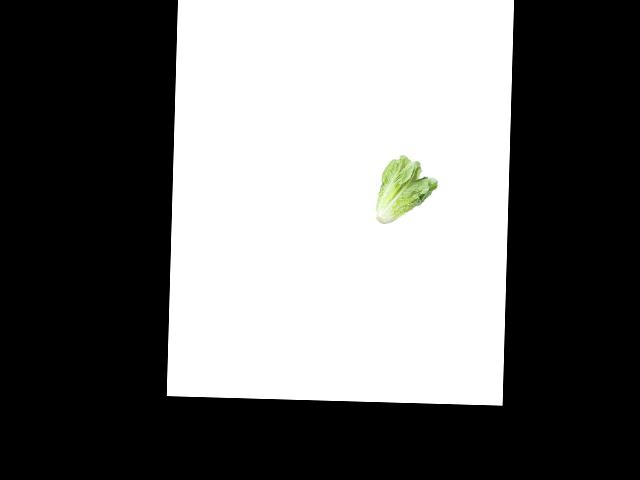lettuce: (372, 154, 442, 223)
